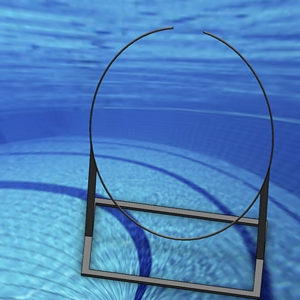circle: (78, 25, 274, 296)
